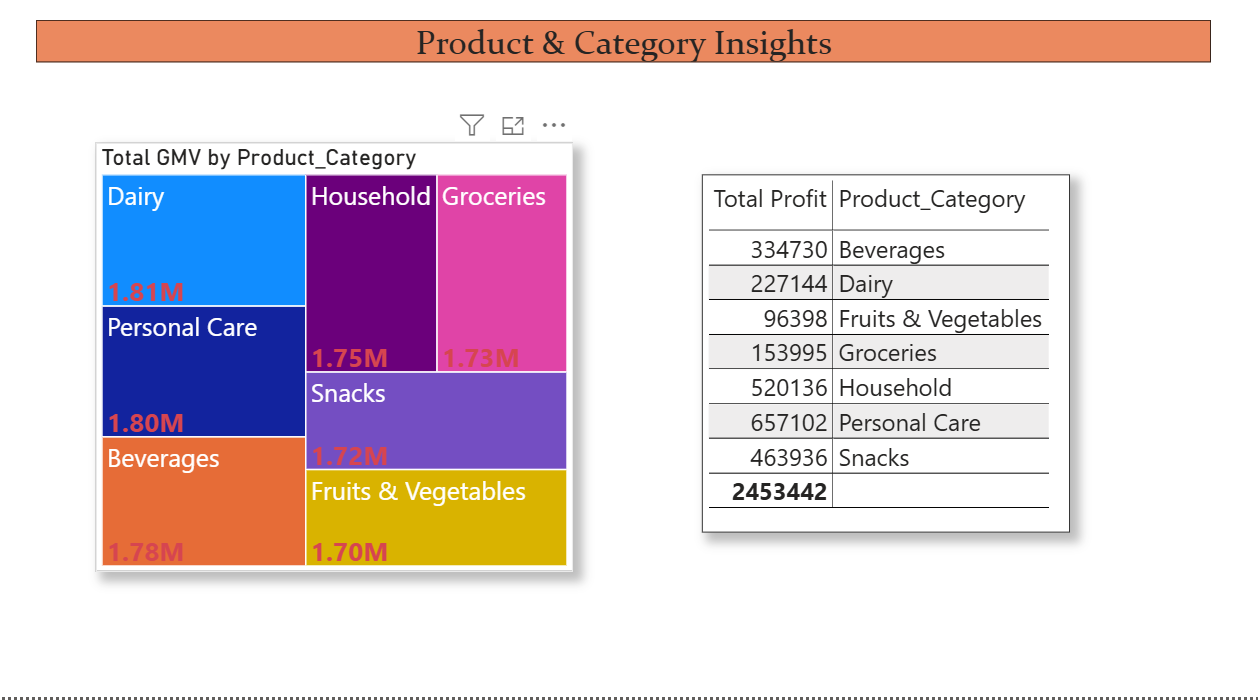

Layout of this report page (visuals, bound fields, positions):
{"tool":"powerbi","page":{"name":"Page 3","canvas":[1280,720],"ordinal":2},"visuals":[{"type":"treemap","fields":{"Group":["mumbai_qcommerce_enriched.Product_Category"],"Values":["mumbai_qcommerce_enriched.Total GMV"]},"box":[97.1,160,481.4,432.9],"z":0},{"type":"tableEx","fields":{"Values":["mumbai_qcommerce_enriched.Total Profit","mumbai_qcommerce_enriched.Product_Category"]},"box":[708.6,192.9,371.4,361.4],"z":1000},{"type":"textbox","title":"Product & Category Insights","box":[35.7,35.7,1185.7,42.9],"z":2000}]}

Visuals, with their boxes in screenshot pixels (x1, y1, x2, y2), scaled from the page's 1280x720 canvas onto the 1258x700 screenshot:
treemap - mumbai_qcommerce_enriched.Product_Category x mumbai_qcommerce_enriched.Total GMV: (95,156,569,576)
tableEx - mumbai_qcommerce_enriched.Total Profit x mumbai_qcommerce_enriched.Product_Category: (696,188,1061,539)
"Product & Category Insights" textbox: (35,35,1200,76)
